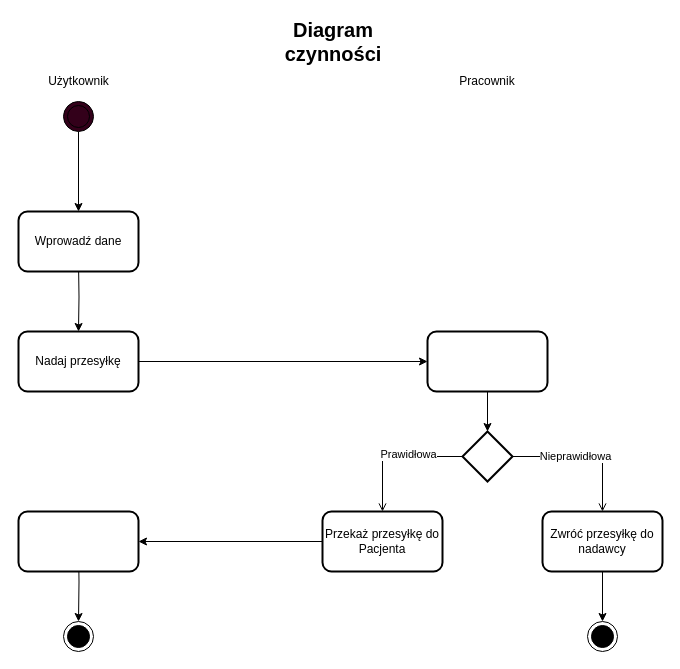
This 680x669 diagram has some shape labels left out. The shapes that lost their labels are listed below. From the top down, each one's centre as x and y in pixels, then its label:
At [487,361]: "Zkontroluj przesyłkę".
At [78,541]: "Odbierz przesyłkę".
